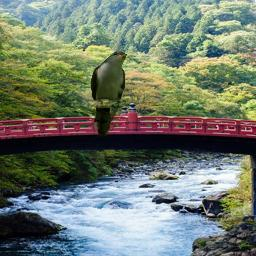Cuckoo: (90, 50, 128, 137)
